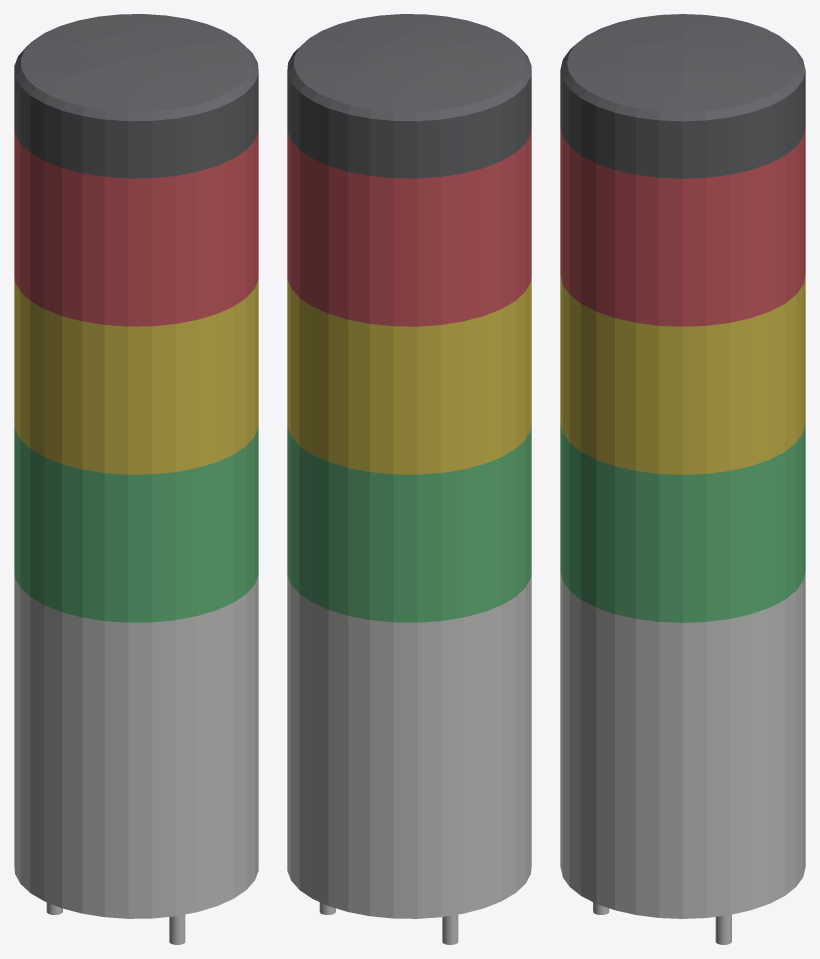
File: patlite_lr6_302.glb
3 renders of one model, left to right at view 1: azimuth 30°, elevation 25°; view 2: azimuth 150°, elevation 25°; view 3: azimuth 270°, elevation 25°, orthographic.
Visible parts, largest first — view 1: world; view 2: world; view 3: world.
Boxes of the visible parts, x1,y1,x2,y2 form: world: (14, 14, 258, 944); world: (287, 14, 531, 944); world: (560, 14, 805, 944).
Size of the model in its own units: 60 by 231 by 60.
